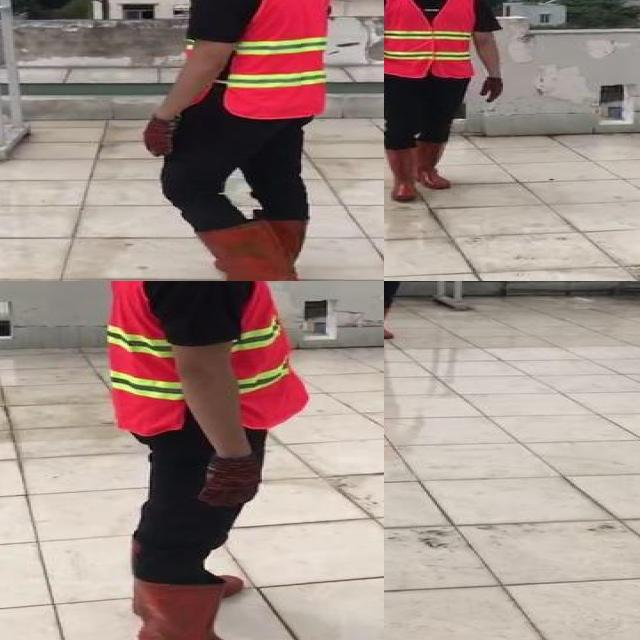boots: (134, 574, 285, 640), (191, 223, 301, 281), (384, 146, 421, 203), (418, 138, 452, 187), (384, 304, 398, 340)
hand_glove: (202, 453, 260, 508), (143, 116, 180, 156), (482, 78, 504, 103)
person: (84, 281, 329, 640), (135, 0, 338, 281), (384, 0, 507, 206)
vest: (109, 281, 308, 435), (185, 0, 327, 118), (384, 0, 476, 80)
